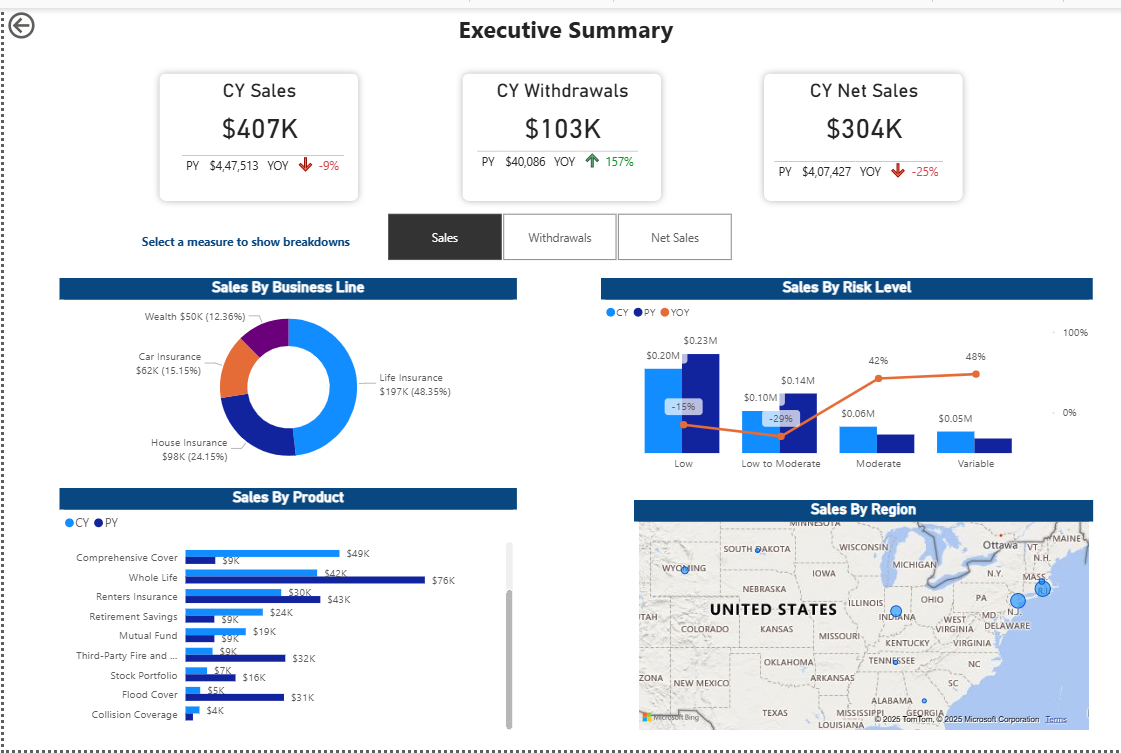

Layout of this report page (visuals, bound fields, positions):
{"tool":"powerbi","page":{"name":"Executive summary","canvas":[1280,850],"ordinal":0},"visuals":[{"type":"textbox","box":[9.1,0,1270.4,48.5],"z":0},{"type":"group","id":"g1","title":"Group 1","box":[170,66.2,243.3,161.7],"z":1000},{"type":"group","id":"g2","title":"Group 1","box":[516.4,66.2,243.8,162],"z":2000},{"type":"shape","box":[170,66.2,243.8,162],"z":2250,"group":"g1"},{"type":"shape","box":[516.4,66.2,243.8,162],"z":2250,"group":"g2"},{"type":"shape","box":[863.3,66.2,243.8,162],"z":2250,"group":"g3"},{"type":"tableEx","fields":{"Values":["Sales.PY text","Sales.PY Withdrawal","Sales.YOY text","Sales.YOY Withdrawals"]},"box":[534.9,130.1,204.4,77.2],"z":2500,"group":"g2"},{"type":"tableEx","fields":{"Values":["Sales.PY text","Sales.PY Sales","Sales.YOY text","Sales.YOY Sales"]},"box":[197.1,134.2,204.4,77.2],"z":2500,"group":"g1"},{"type":"tableEx","fields":{"Values":["Sales.PY text","Sales.PY net Sales","Sales.YOY text","Sales.YOY net Sales"]},"box":[877.7,142.3,215,74.2],"z":2500,"group":"g3"},{"type":"group","id":"g3","title":"Group 1","box":[863.3,66.2,245,161.7],"z":3000},{"type":"card","title":"CY Sales","fields":{"Values":["Sales.CY Sales"]},"box":[195,81.3,193.8,80.3],"z":3000,"group":"g1"},{"type":"card","title":"CY Withdrawals","fields":{"Values":["Sales.CY Withdrawal"]},"box":[541.4,81.3,193.8,80.3],"z":3000,"group":"g2"},{"type":"card","title":"CY Net Sales","fields":{"Values":["Sales.CY net Sales"]},"box":[888.3,81.3,193.8,80.3],"z":3000,"group":"g3"},{"type":"donutChart","fields":{"Category":["Product.business_line"],"Y":["options.CY"]},"box":[63.6,309.3,524.1,230.3],"z":4000},{"type":"lineClusteredColumnComboChart","fields":{"Y":["options.CY","options.PY"],"Category":["Product.product_risk_level"],"Y2":["options.YOY"]},"box":[683.9,309.3,563.6,230.3],"z":5000},{"type":"map","fields":{"Category":["Advisor.advisor_region"],"Size":["options.CY"]},"box":[721.7,563.6,525.8,268.1],"z":6000},{"type":"clusteredBarChart","fields":{"Category":["Product.product_name"],"Y":["options.CY","options.PY"]},"box":[63.6,549.9,524.1,281.8],"z":7000},{"type":"slicer","fields":{"Values":["options.Measure"]},"box":[414.1,228.5,443.3,67],"z":8000},{"type":"actionButton","box":[0,0,100,40],"z":9000},{"type":"textbox","box":[152.9,252.6,273.2,30.9],"z":10000}]}

Visuals, with their boxes on the page's 1280x850 design canvas (x1, y1, x2, y2). These are canvas units, not pixel positions in the 1121x753 screenshot, which may show the page scaled, cropped or inside an application window:
textbox: pyautogui.locateOnScreen(9, 0, 1280, 48)
"Group 1" group: pyautogui.locateOnScreen(170, 66, 413, 228)
"Group 1" group: pyautogui.locateOnScreen(516, 66, 760, 228)
shape: pyautogui.locateOnScreen(170, 66, 414, 228)
shape: pyautogui.locateOnScreen(516, 66, 760, 228)
shape: pyautogui.locateOnScreen(863, 66, 1107, 228)
tableEx - Sales.PY text x Sales.PY Withdrawal: pyautogui.locateOnScreen(535, 130, 739, 207)
tableEx - Sales.PY text x Sales.PY Sales: pyautogui.locateOnScreen(197, 134, 402, 211)
tableEx - Sales.PY text x Sales.PY net Sales: pyautogui.locateOnScreen(878, 142, 1093, 216)
"Group 1" group: pyautogui.locateOnScreen(863, 66, 1108, 228)
"CY Sales" card: pyautogui.locateOnScreen(195, 81, 389, 162)
"CY Withdrawals" card: pyautogui.locateOnScreen(541, 81, 735, 162)
"CY Net Sales" card: pyautogui.locateOnScreen(888, 81, 1082, 162)
donutChart - Product.business_line x options.CY: pyautogui.locateOnScreen(64, 309, 588, 540)
lineClusteredColumnComboChart - options.CY x options.PY: pyautogui.locateOnScreen(684, 309, 1248, 540)
map - Advisor.advisor_region x options.CY: pyautogui.locateOnScreen(722, 564, 1248, 832)
clusteredBarChart - Product.product_name x options.CY: pyautogui.locateOnScreen(64, 550, 588, 832)
slicer - options.Measure: pyautogui.locateOnScreen(414, 228, 857, 296)
actionButton: pyautogui.locateOnScreen(0, 0, 100, 40)
textbox: pyautogui.locateOnScreen(153, 253, 426, 284)
